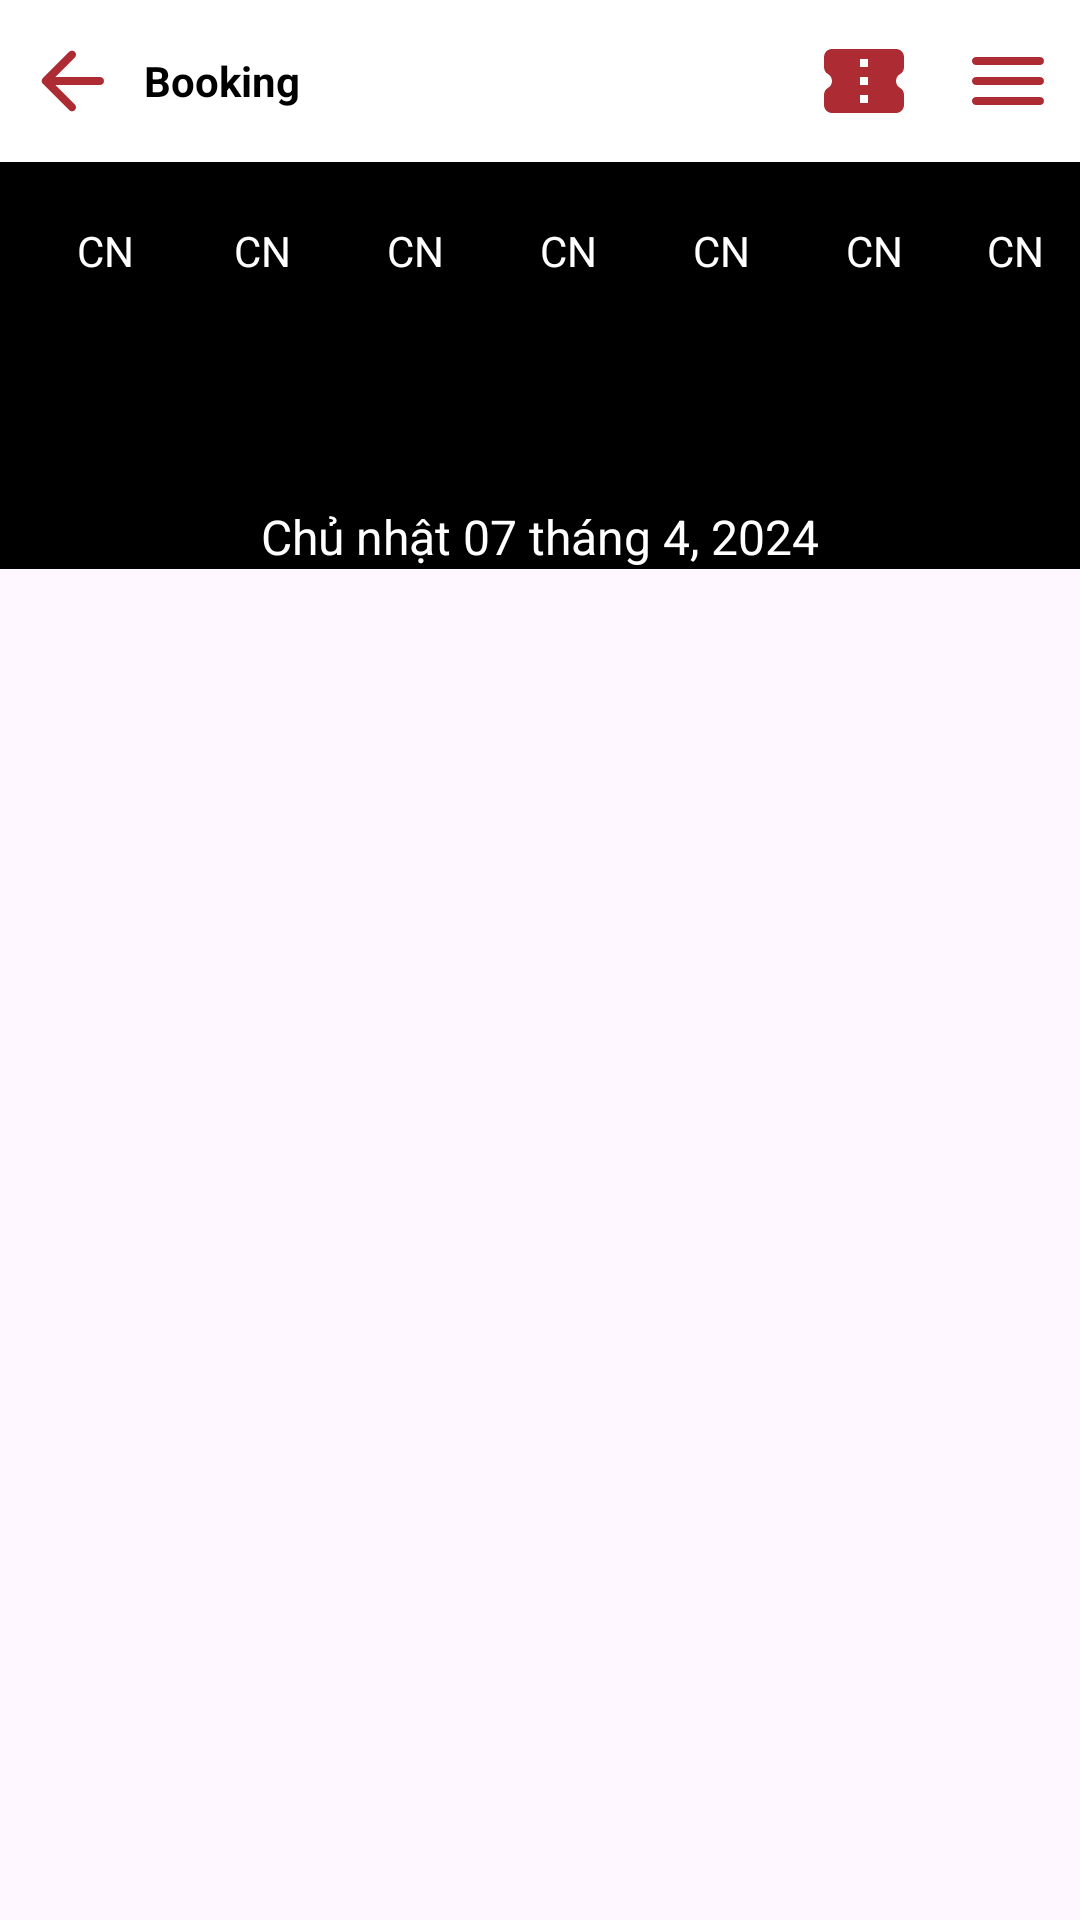

Icon click points for this 1080x1920 phone screenshot, format [x,y]:
back arrow: [72,81]
menu: [1008,81]
ticket: [864,81]
